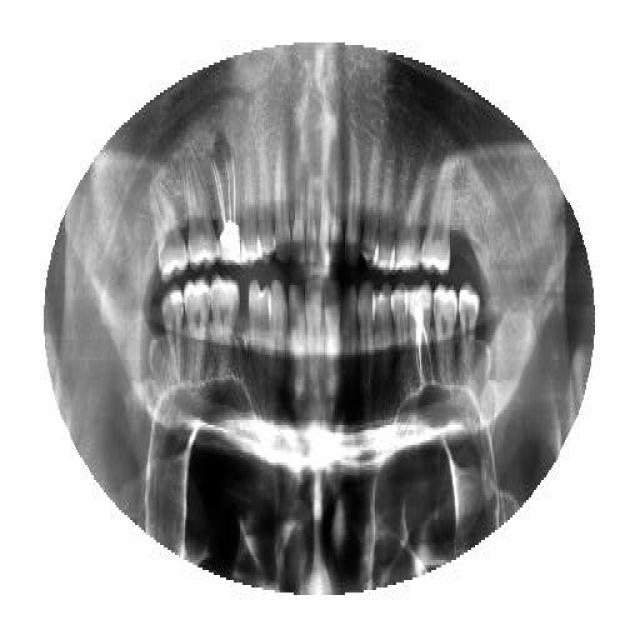Implant: (212, 152, 242, 268), (404, 282, 435, 388)
